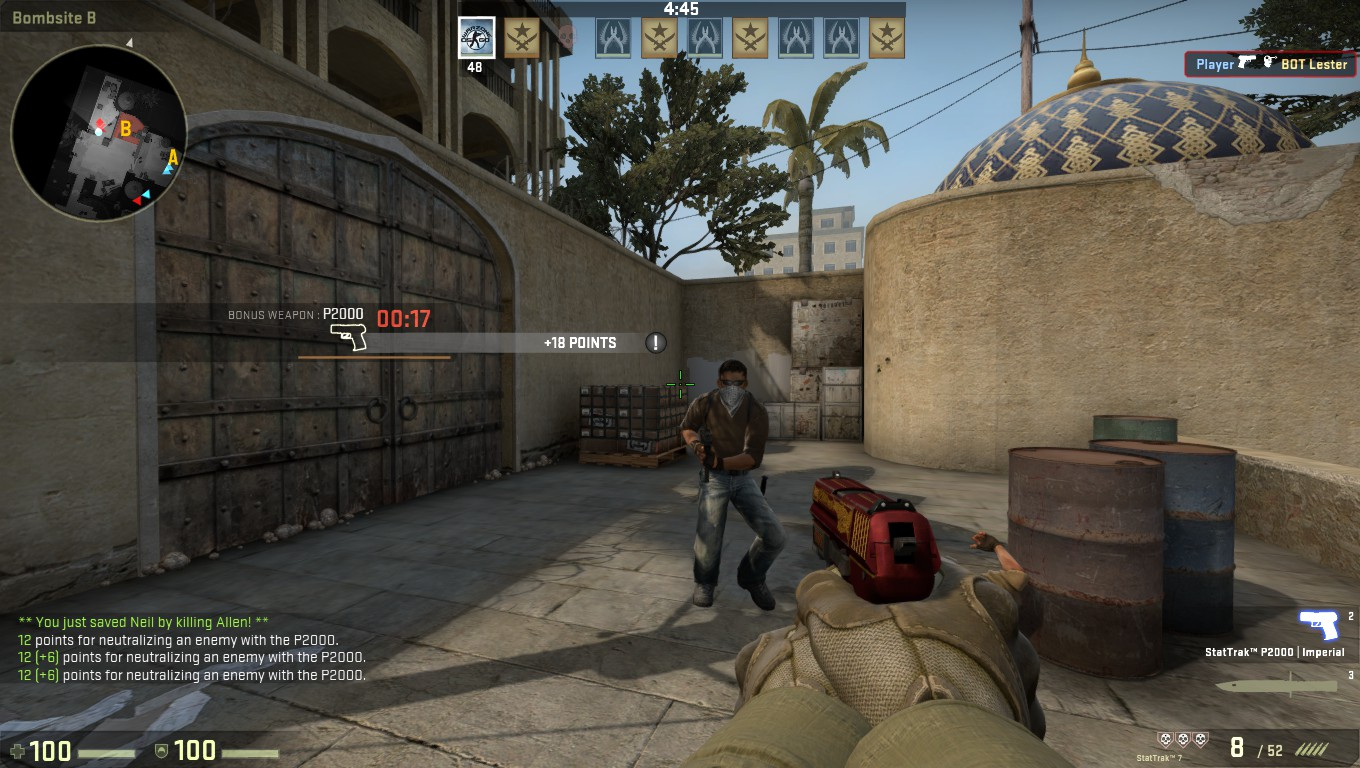t: (675, 353, 797, 618)
th: (702, 353, 766, 413)
